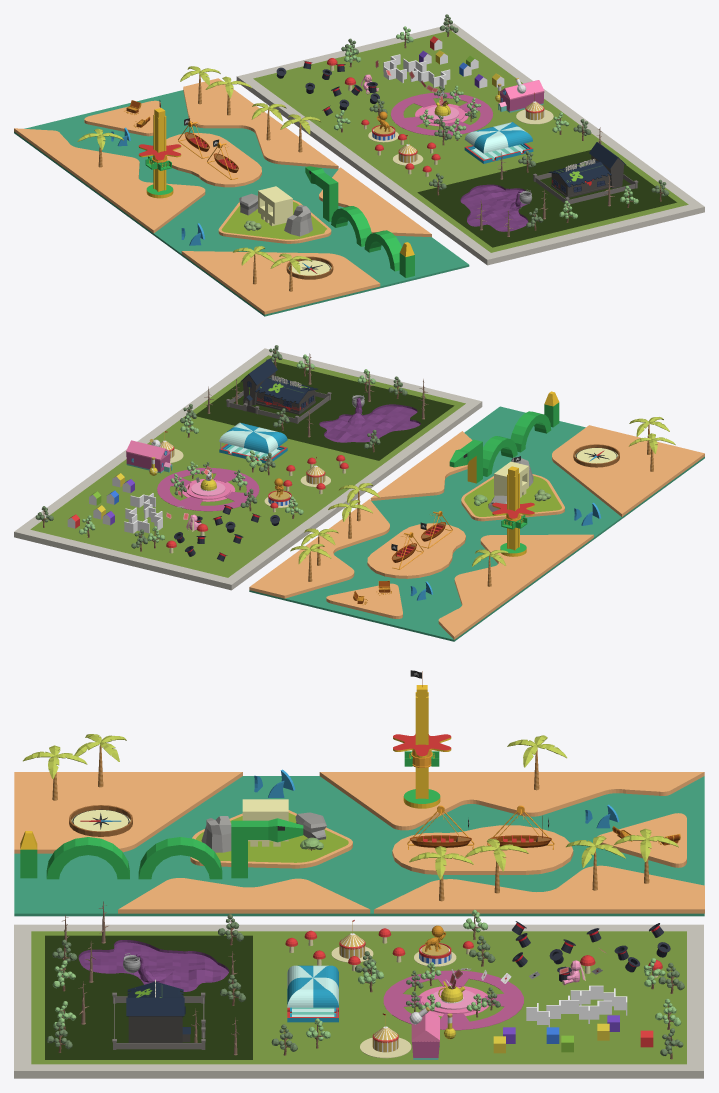
File: Park_2.3_D4.fbx
3 renders of one model, top to bottom at view 1: azimuth 30°, elevation 25°; view 2: azimuth 150°, elevation 25°; view 3: azimuth 270°, elevation 25°, orthographic. The views are drawn at different scales.
Parts seen in each view (by area): view 1: Cube.004, Plane.018; view 2: Cube.004, Plane.018; view 3: Cube.004, Plane.018.
Part boxes in pixels (x1,y1,x2,y2): Cube.004: [236, 14, 704, 265]; Plane.018: [14, 66, 469, 316]; Cube.004: [14, 345, 482, 590]; Plane.018: [249, 391, 704, 641]; Cube.004: [14, 901, 703, 1078]; Plane.018: [14, 670, 704, 916].
Size of the model in its own units: 21145 by 4686 by 20876.
Materials: 35 (16 with a texture image).
